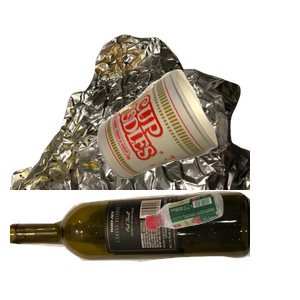glass: (10, 189, 250, 300)
metal: (10, 32, 250, 212)
plastic: (142, 191, 300, 300)
trash: (95, 67, 300, 238)
